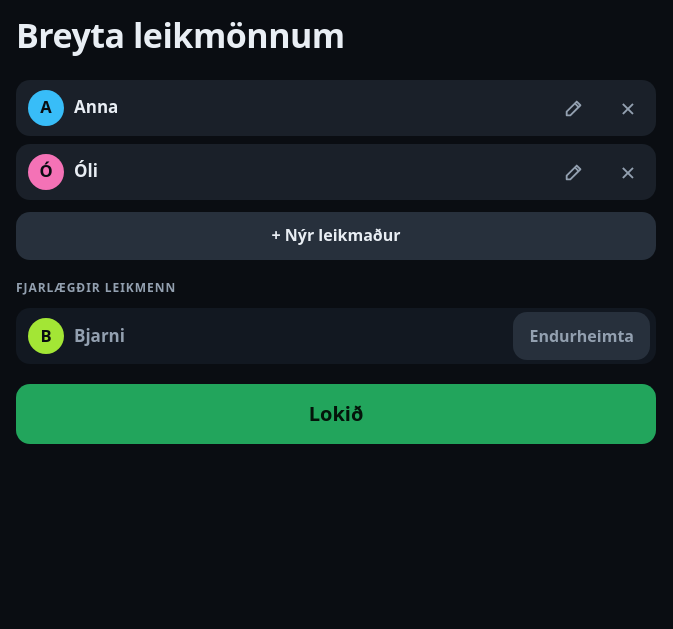
it: ManagePlayers › adds a player with a colour
Click the button "+ Nýr leikmaður" at [336, 236], box left=16, top=212, right=656, bottom=260
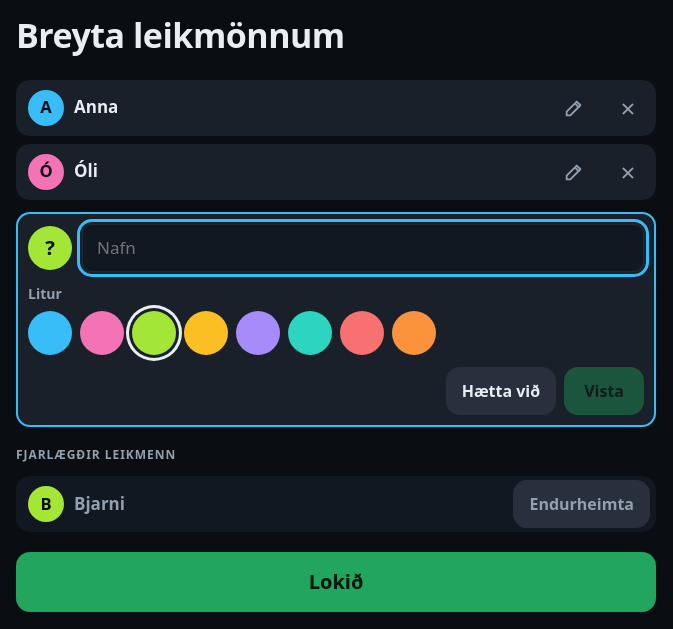
Expected: the radio button named "Ljósgrænn" is checked, left=132, top=311, right=176, bottom=355
Type "  Dagný " into the field labelled "Nafn" at [363, 248], box left=82, top=224, right=644, bottom=272
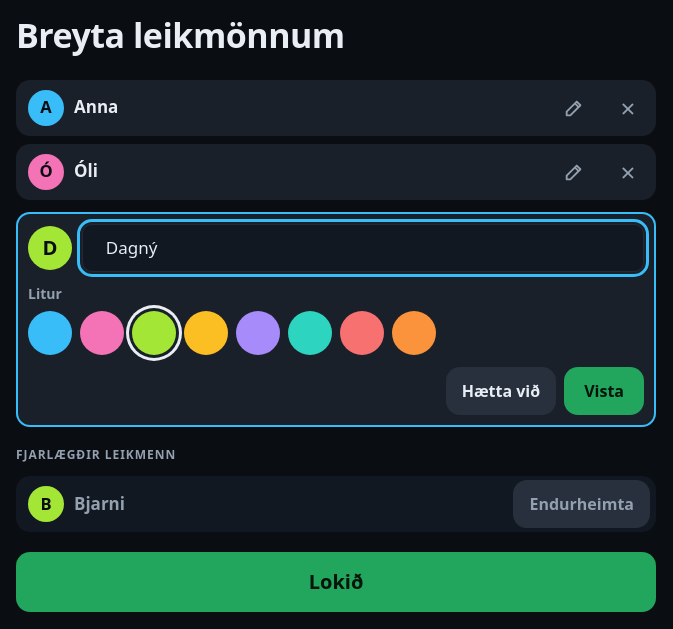
Click the radio button named "Fjólublár" at [258, 333], box left=236, top=311, right=280, bottom=355
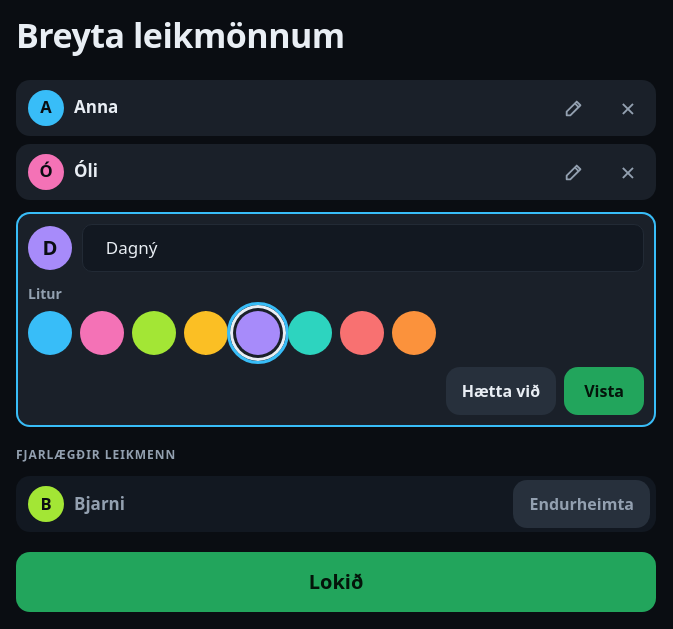
Click the button "Vista" at [604, 391], box left=564, top=367, right=644, bottom=415
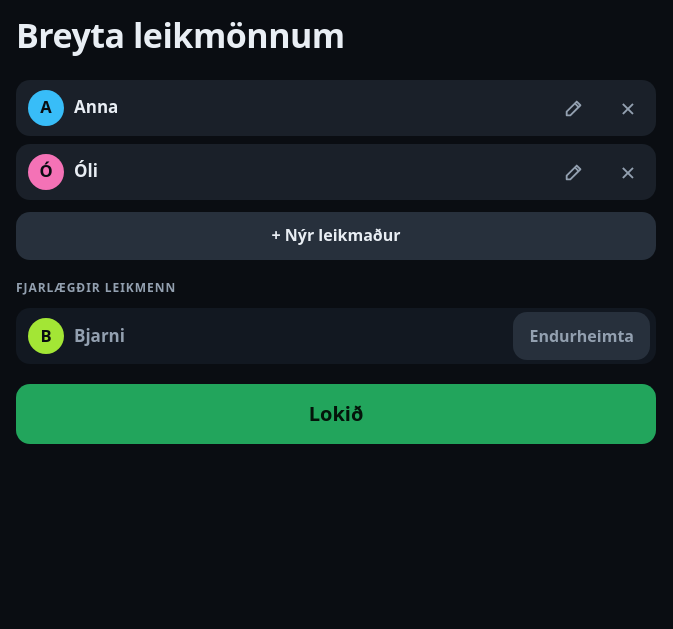
Expected: the form is gone
